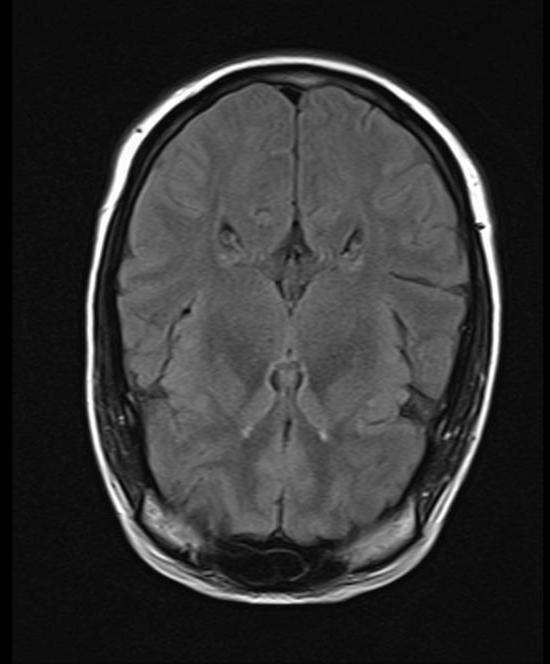Normal_Brain: (5, 4, 550, 664)
